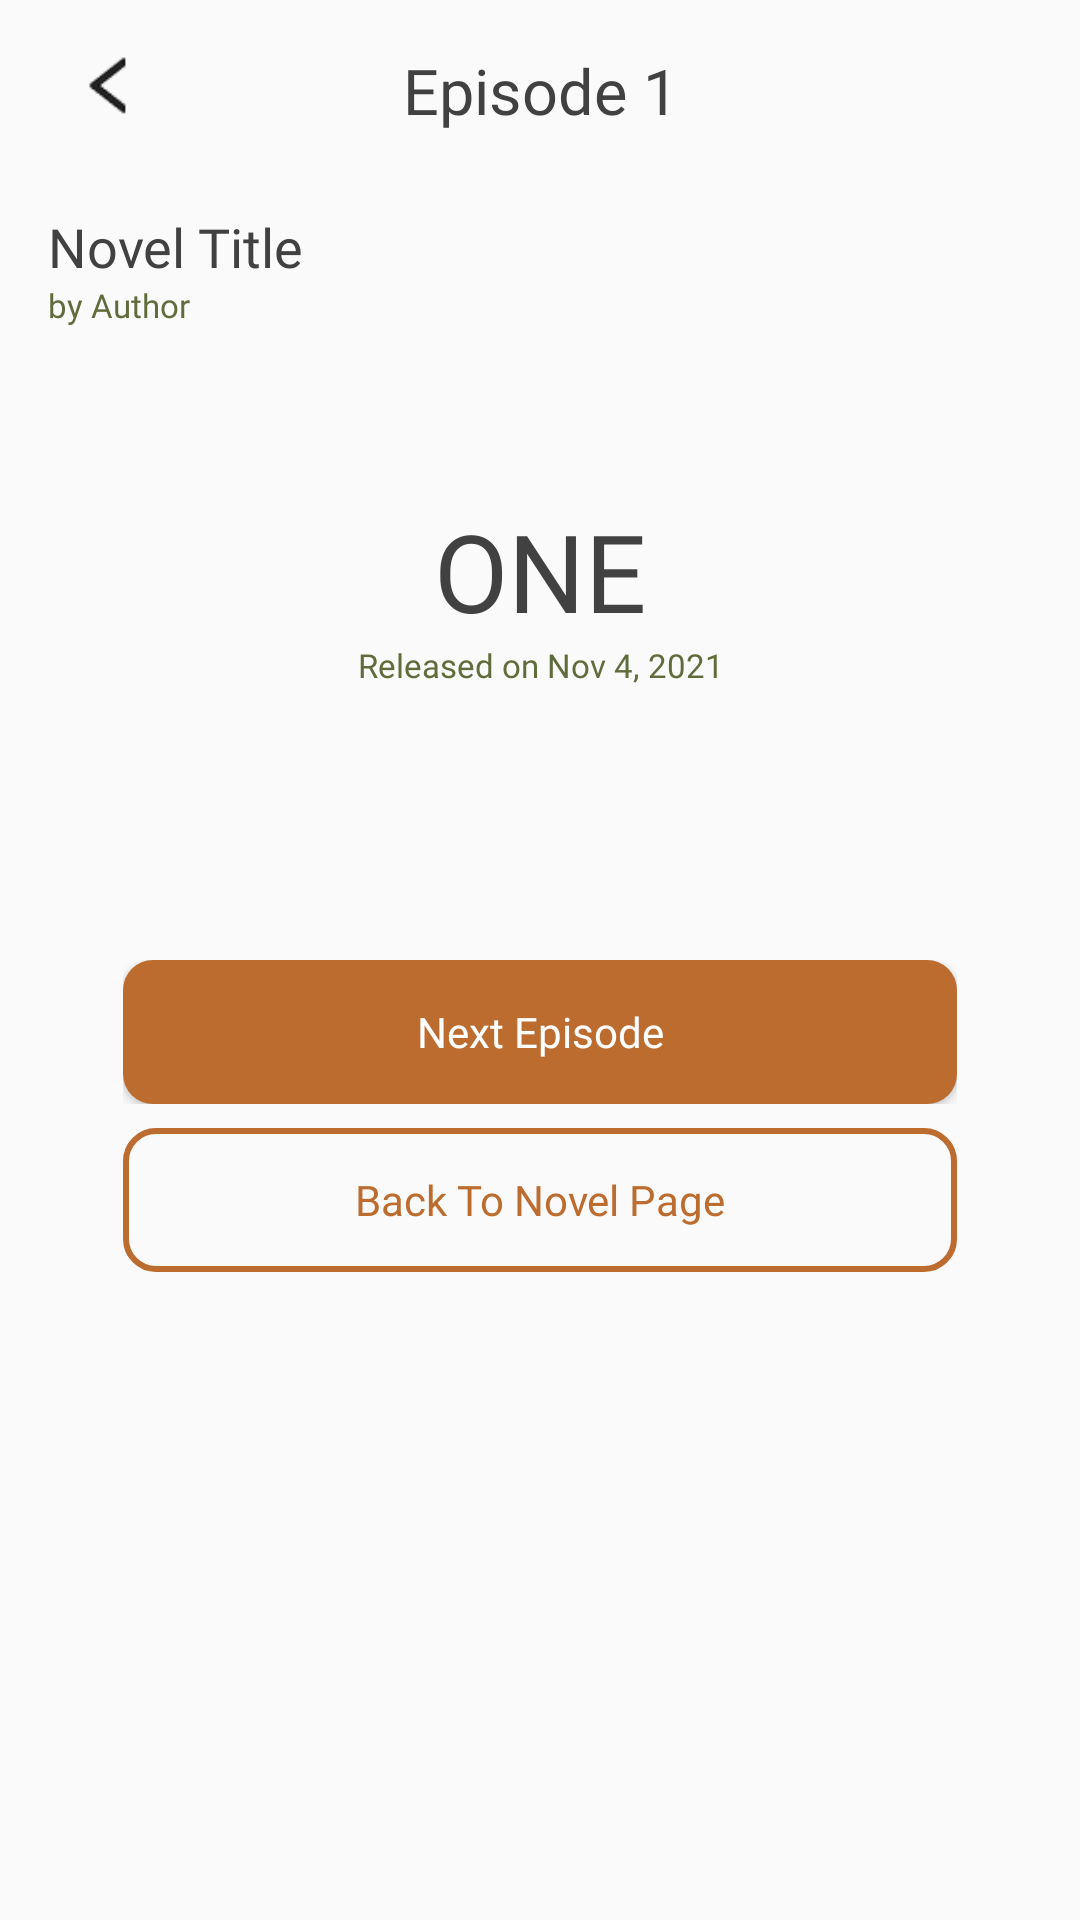

Screen size 1080x1920. Icon name, then its center in pixels as [x,y]:
arrow left: [107,85]
